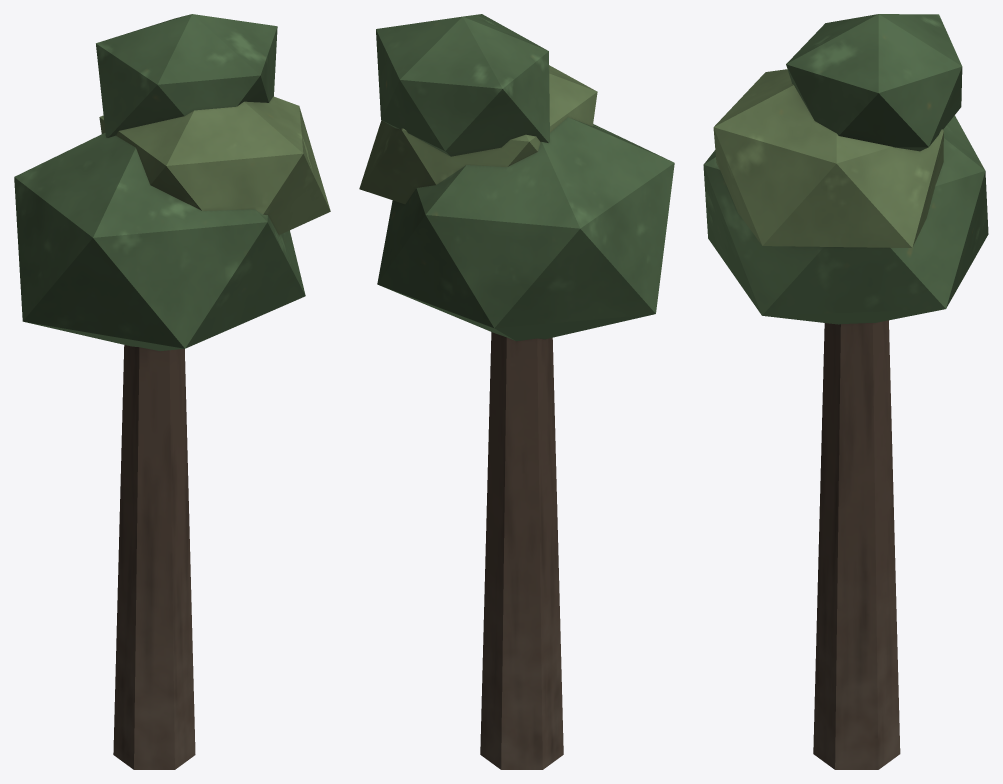
Rendered from arvore_campina_b.glb.
3 views of the same model, side by side, from view 1: azimuth 30°, elevation 25°; view 2: azimuth 150°, elevation 25°; view 3: azimuth 270°, elevation 25° (orthographic). The views are drawn at different scales.
Parts seen in each view (by area): view 1: arvore_campina_b; view 2: arvore_campina_b; view 3: arvore_campina_b.
Part boxes in pixels (x1,y1,x2,y2): arvore_campina_b: (14, 14, 330, 769); arvore_campina_b: (359, 14, 674, 769); arvore_campina_b: (703, 14, 988, 769).
Bounding box in the file's own units: 0.6763 × 1.75 × 0.5899.
Materials: 1 (1 with a texture image).
